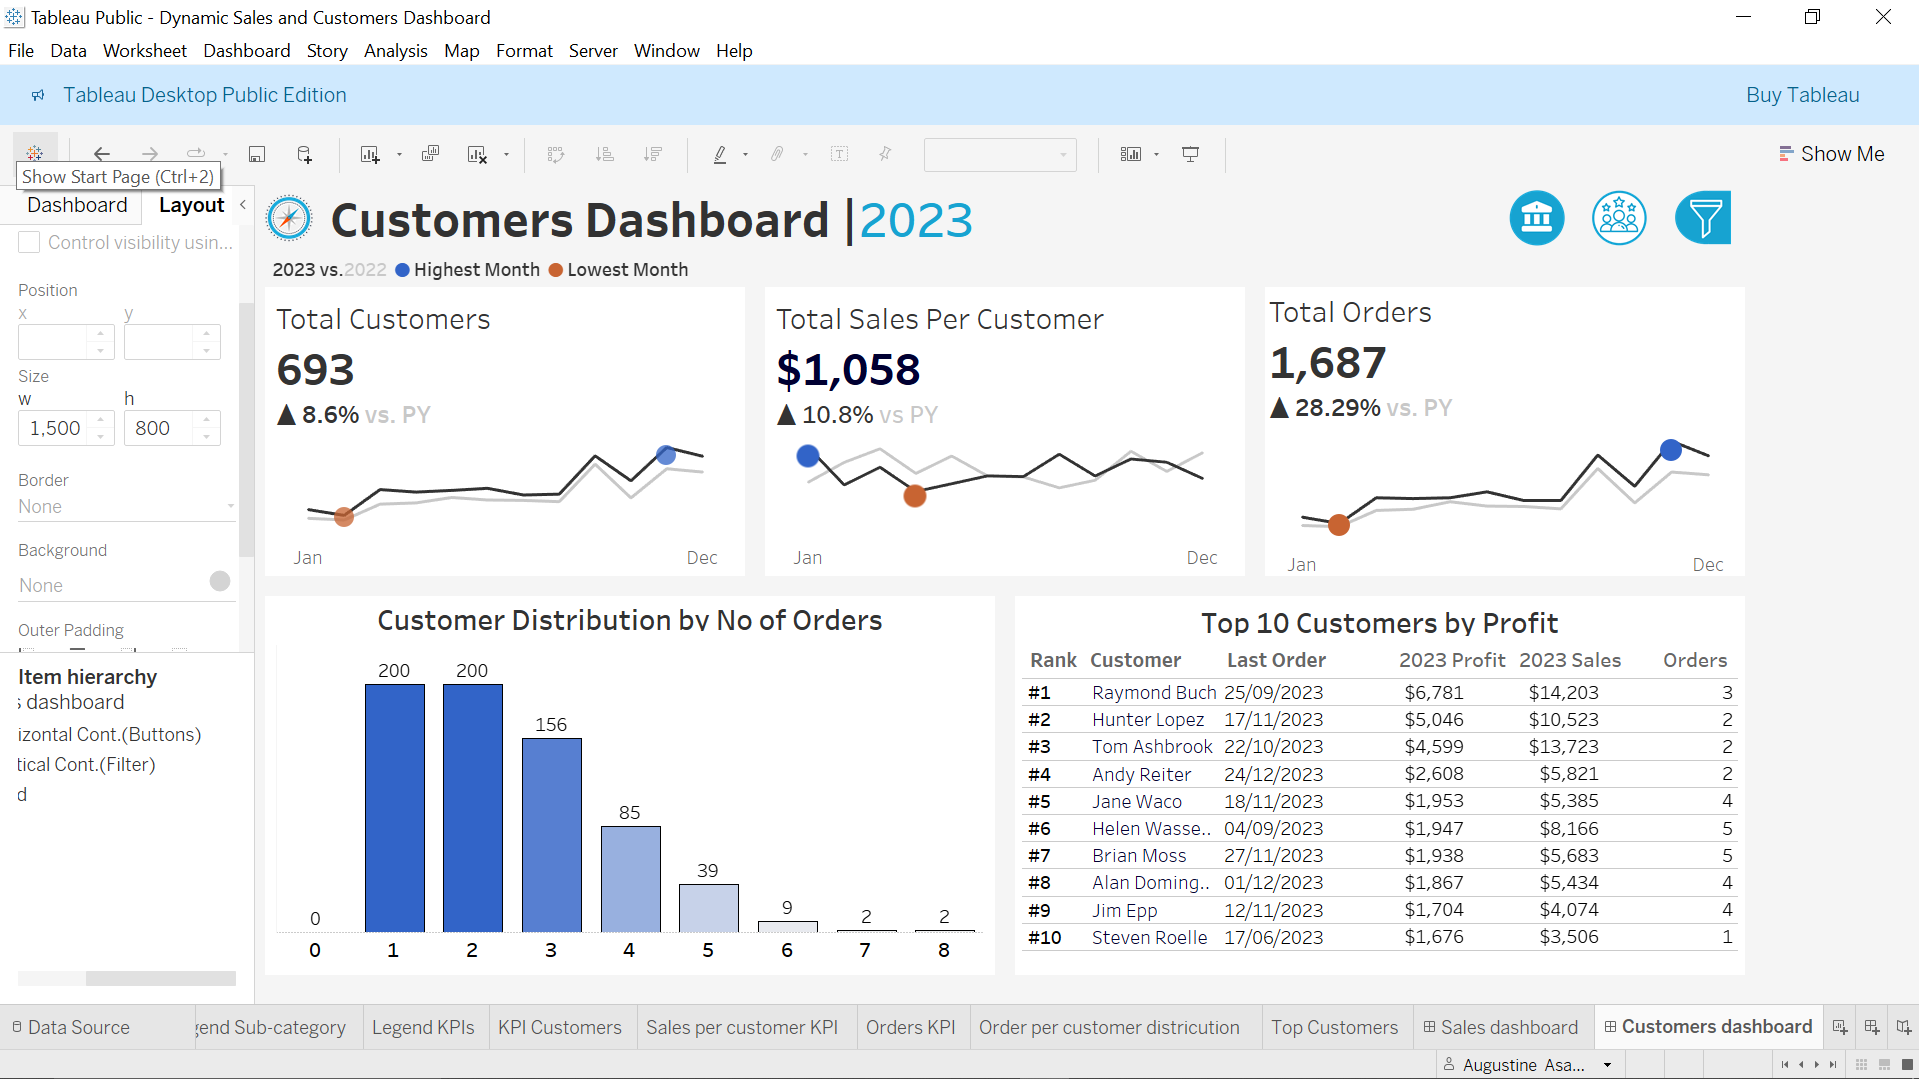

This screenshot's page, from the dashboard's own definition file:
{"tool":"tableau","page":{"name":"Customers dashboard","canvas":[1500,800],"ordinal":0},"visuals":[{"type":"image","param":"Image/Icon - Logo.png","box":[0,0,67,65]},{"type":"text","box":[67,0,924,65]},{"type":"dashboard-object","box":[1239,0,84,65]},{"type":"dashboard-object","box":[1323,0,83,65]},{"type":"dashboard-object","box":[1406,0,83,65]},{"type":"blank","box":[1245,10,242.5,67]},{"type":"worksheet","title":"Legend KPIs","mark":"Automatic","box":[0,65,1500,37]},{"type":"text","box":[1245,77,242.5,41]},{"type":"worksheet","title":"KPI Customers","mark":"Automatic","rows":["Calculation_900719930701725708"],"cols":["Order Date"],"box":[0,102,500,299]},{"type":"worksheet","title":"Sales per customer KPI","mark":"Circle","rows":["Calculation_900719930702163982"],"cols":["Order Date"],"box":[500,102,500,299]},{"type":"worksheet","title":"Orders KPI","mark":"Automatic","rows":["Calculation_900719930701938701"],"cols":["Order Date"],"box":[1000,102,500,299]},{"type":"parameter","param":"[Parameters].[Parameter 1]","box":[1245,118,242.5,60]},{"type":"text","box":[1245,178,242.5,36]},{"type":"filter","title":"KPI Customers","param":"[federated.0cocrun07rxf6k1fiare80s47cgy].[none:Category:nk]","box":[1245,214,242.5,70]},{"type":"filter","title":"KPI Customers","param":"[federated.0cocrun07rxf6k1fiare80s47cgy].[none:Sub-Category:nk]","box":[1245,284,242.5,70]},{"type":"text","box":[1245,354,242.5,36]},{"type":"filter","title":"KPI Customers","param":"[federated.0cocrun07rxf6k1fiare80s47cgy].[none:Region:nk]","box":[1245,390,242.5,70]},{"type":"text","box":[17,418,716,32]},{"type":"text","box":[767,418,716,37]},{"type":"worksheet","title":"Order per customer districution","mark":"Bar","rows":["Calculation_900719930694426624"],"cols":["Calculation_900719930696974342"],"box":[17,450,716,333]},{"type":"text","box":[767,455,60,38]},{"type":"text","box":[827,455,137,38]},{"type":"text","box":[964,455,172,38]},{"type":"text","box":[1136,455,120,38]},{"type":"text","box":[1256,455,144,38]},{"type":"text","box":[1400,455,83,38]},{"type":"filter","title":"KPI Customers","param":"[federated.0cocrun07rxf6k1fiare80s47cgy].[none:State:nk]","box":[1245,460,242.5,70]},{"type":"worksheet","title":"Top Customers","mark":"Automatic","rows":["Calculation_900719931140980761","Customer Name","Order Date"],"box":[767,493,716,273]},{"type":"filter","title":"KPI Customers","param":"[federated.0cocrun07rxf6k1fiare80s47cgy].[none:City:nk]","box":[1245,530,242.5,70]}]}

Visuals, with their boxes on the page's 1500x800 design canvas (x1, y1, x2, y2). These are canvas units, not pixel positions in the 1919x1079 screenshot, which may show the page scaled, cropped or inside an application window:
image: <box>0,0,67,65</box>
text: <box>67,0,991,65</box>
dashboard-object: <box>1239,0,1323,65</box>
dashboard-object: <box>1323,0,1406,65</box>
dashboard-object: <box>1406,0,1489,65</box>
blank: <box>1245,10,1488,77</box>
"Legend KPIs" worksheet: <box>0,65,1500,102</box>
text: <box>1245,77,1488,118</box>
"KPI Customers" worksheet: <box>0,102,500,401</box>
"Sales per customer KPI" worksheet (Circle marks): <box>500,102,1000,401</box>
"Orders KPI" worksheet: <box>1000,102,1500,401</box>
parameter: <box>1245,118,1488,178</box>
text: <box>1245,178,1488,214</box>
"KPI Customers" filter: <box>1245,214,1488,284</box>
"KPI Customers" filter: <box>1245,284,1488,354</box>
text: <box>1245,354,1488,390</box>
"KPI Customers" filter: <box>1245,390,1488,460</box>
text: <box>17,418,733,450</box>
text: <box>767,418,1483,455</box>
"Order per customer districution" worksheet (Bar marks): <box>17,450,733,783</box>
text: <box>767,455,827,493</box>
text: <box>827,455,964,493</box>
text: <box>964,455,1136,493</box>
text: <box>1136,455,1256,493</box>
text: <box>1256,455,1400,493</box>
text: <box>1400,455,1483,493</box>
"KPI Customers" filter: <box>1245,460,1488,530</box>
"Top Customers" worksheet: <box>767,493,1483,766</box>
"KPI Customers" filter: <box>1245,530,1488,600</box>
